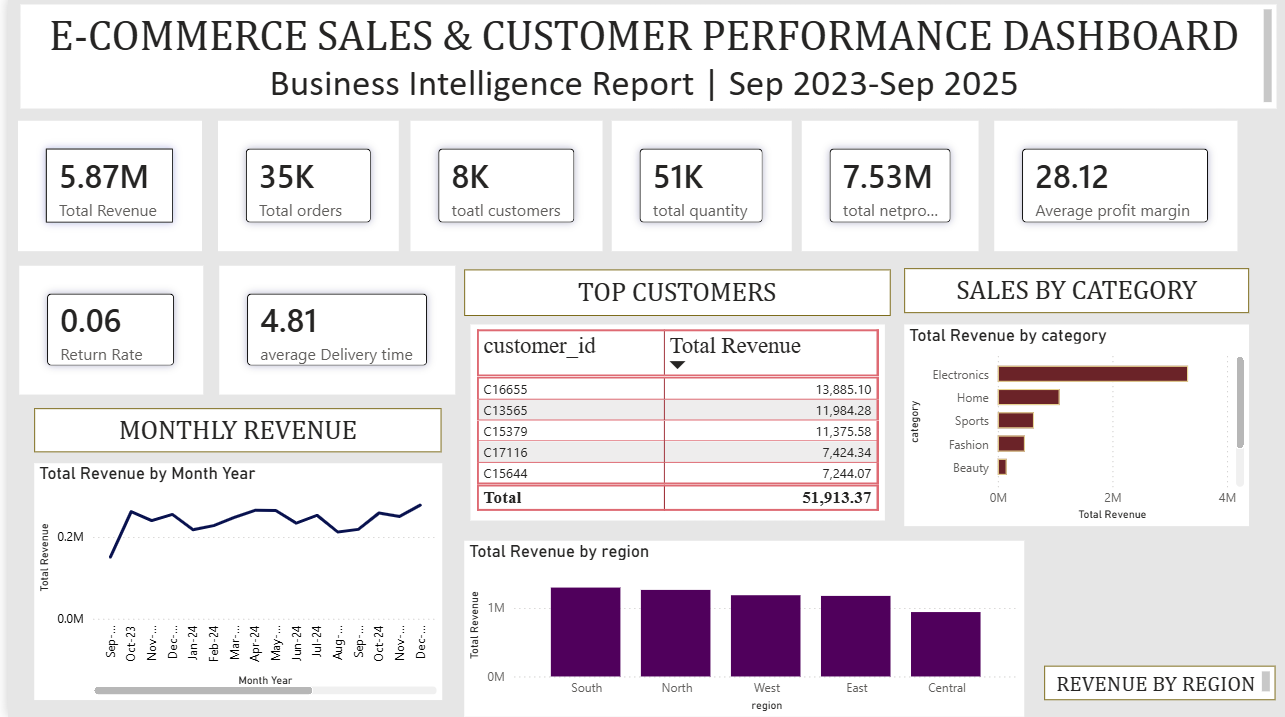

The page's visual inventory and layout, read from the dashboard file:
{"tool":"powerbi","page":{"name":"Page 1","canvas":[1280,720],"ordinal":0},"visuals":[{"type":"textbox","box":[12,8,1256,104],"z":0},{"type":"cardVisual","fields":{"Data":["DateTable.Total Revenue"]},"box":[9.6,123.5,183.9,130.4],"z":1000},{"type":"cardVisual","fields":{"Data":["DateTable.Total orders"]},"box":[209.9,123.5,181.1,130.4],"z":2000},{"type":"cardVisual","fields":{"Data":["DateTable.Average profit margin"]},"box":[986.6,123.5,242.9,130.4],"z":3000},{"type":"cardVisual","fields":{"Data":["DateTable.total netprofit"]},"box":[793.1,123.5,177,130.4],"z":4000},{"type":"cardVisual","fields":{"Data":["DateTable.toatl customers"]},"box":[402.1,123.5,192.1,130.4],"z":5000},{"type":"cardVisual","fields":{"Data":["DateTable.total quantity"]},"box":[603.8,123.5,179.8,130.4],"z":6000},{"type":"cardVisual","fields":{"Data":["DateTable.Return Rate"]},"box":[11.2,269,183.9,129],"z":7000},{"type":"cardVisual","fields":{"Data":["DateTable.average Delivery time"]},"box":[211.5,269,236,129],"z":8000},{"type":"tableEx","fields":{"Values":["ecommerce_sales_34500.customer_id","DateTable.Total Revenue"]},"box":[462,328,414,196],"z":9000},{"type":"textbox","box":[456,272,426,46],"z":10000},{"type":"textbox","box":[26.8,411.6,407.5,43.9],"z":11000},{"type":"lineChart","fields":{"Category":["DateTable.Month Year"],"Y":["DateTable.Total Revenue"]},"box":[26.5,465.7,407.8,236.5],"z":12000},{"type":"clusteredBarChart","fields":{"Category":["ecommerce_sales_34500.category"],"Y":["DateTable.Total Revenue"]},"box":[896.1,328,345,201.2],"z":13000},{"type":"textbox","box":[896.1,271.8,345,45],"z":14000},{"type":"textbox","box":[1035.7,668.6,231.4,34.3],"z":15000},{"type":"clusteredColumnChart","fields":{"Category":["ecommerce_sales_34500.region"],"Y":["DateTable.Total Revenue"]},"box":[455.7,544.3,560,175.7],"z":16000}]}

Visuals, with their boxes in screenshot pixels (x1, y1, x2, y2), scaled from the page's 1280x720 canvas onto the 1285x717 screenshot:
textbox: (12,8,1273,112)
cardVisual - DateTable.Total Revenue: (10,123,194,253)
cardVisual - DateTable.Total orders: (211,123,393,253)
cardVisual - DateTable.Average profit margin: (990,123,1234,253)
cardVisual - DateTable.total netprofit: (796,123,974,253)
cardVisual - DateTable.toatl customers: (404,123,597,253)
cardVisual - DateTable.total quantity: (606,123,787,253)
cardVisual - DateTable.Return Rate: (11,268,196,396)
cardVisual - DateTable.average Delivery time: (212,268,449,396)
tableEx - ecommerce_sales_34500.customer_id x DateTable.Total Revenue: (464,327,879,522)
textbox: (458,271,885,317)
textbox: (27,410,436,454)
lineChart - DateTable.Month Year x DateTable.Total Revenue: (27,464,436,699)
clusteredBarChart - ecommerce_sales_34500.category x DateTable.Total Revenue: (900,327,1246,527)
textbox: (900,271,1246,315)
textbox: (1040,666,1272,700)
clusteredColumnChart - ecommerce_sales_34500.region x DateTable.Total Revenue: (457,542,1020,716)
